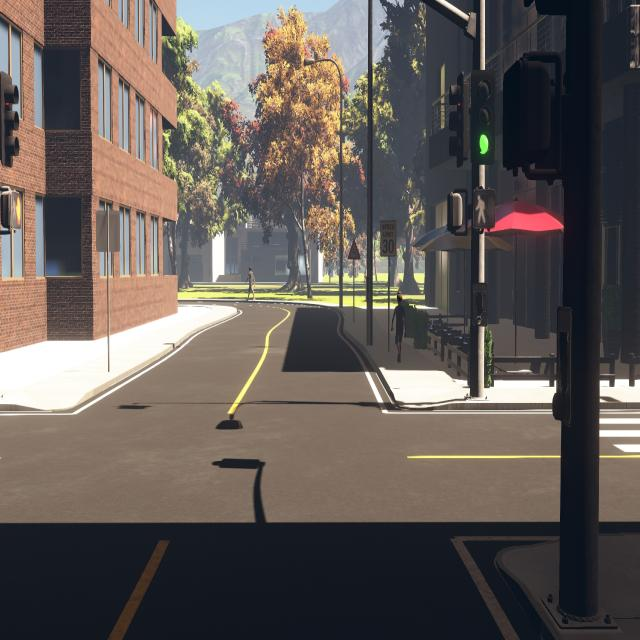speedLimit30: (380, 220, 397, 257)
